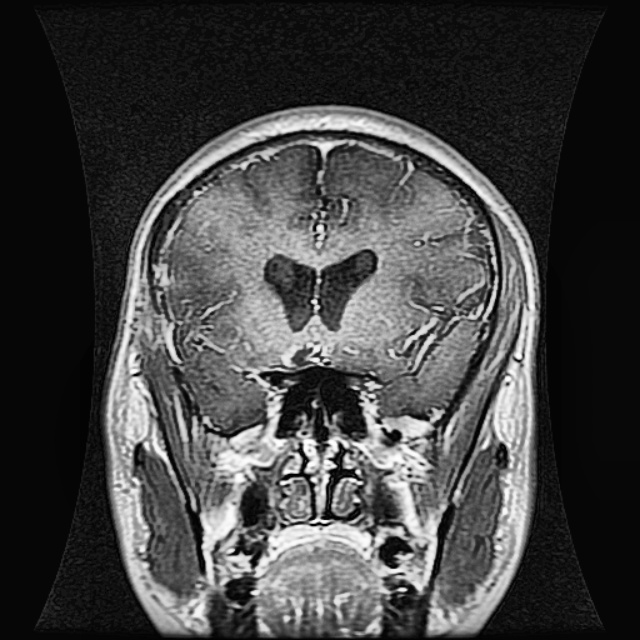Meningioma: (277, 339, 330, 368)
